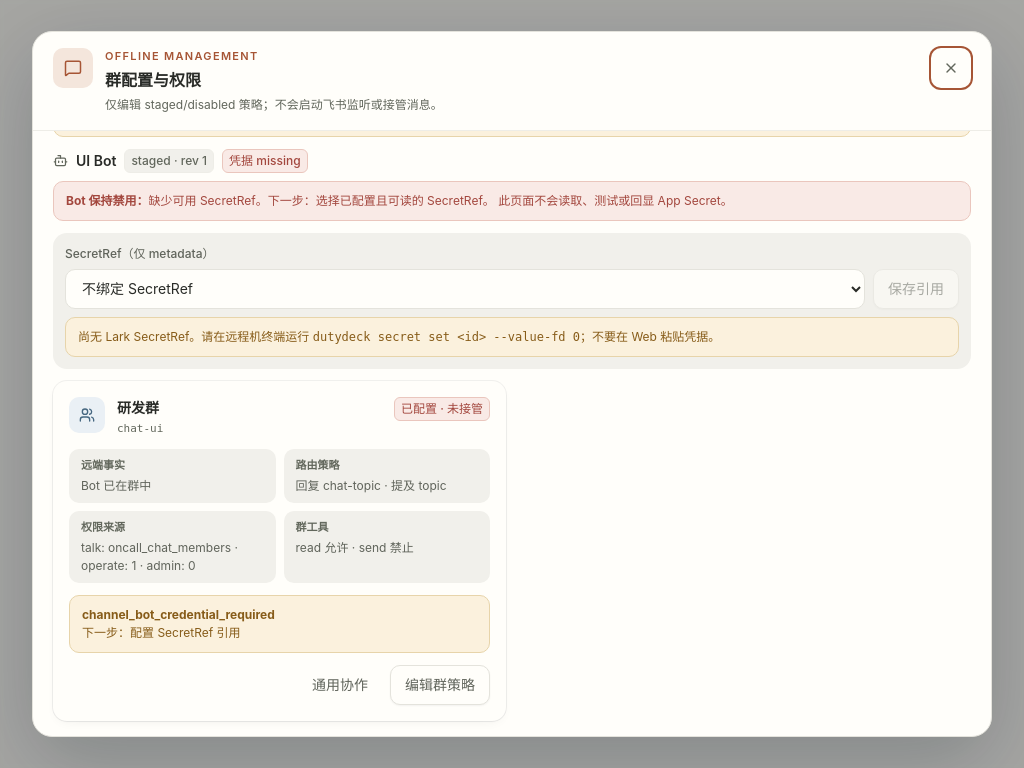
GroupPolicyModal 模态外壳契约 › opens the shared generic collaboration panel scoped to bot externalAppId + chat, and surfaces 403
(page scrolled)
Click the button "通用协作": (340, 685) [298,665,382,705]
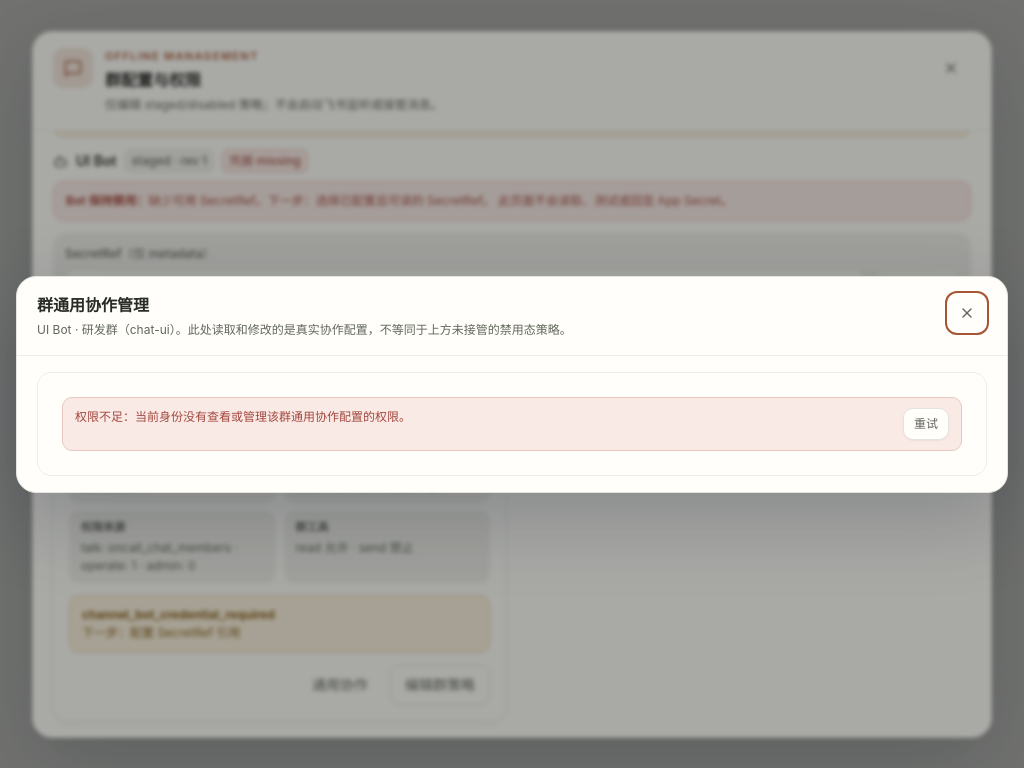
Expected: the dialog "通用协作" is shown, [16,276,1008,492]
Expected: the text "权限不足：当前身份没有查看或管理该群通用协作配置的权限。" is shown, [75,408,411,424]
